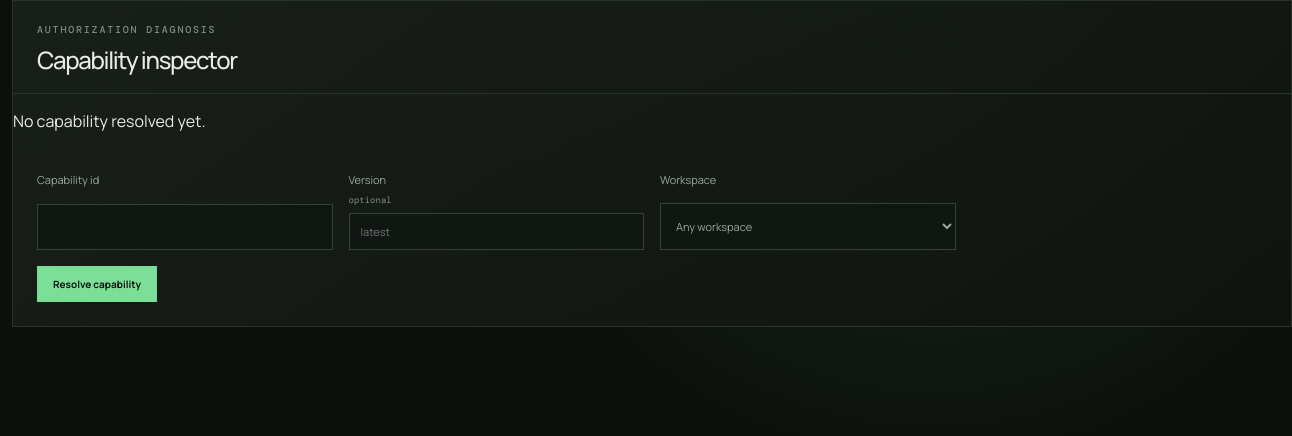
a refused resolution renders the API's own message rather than a blank panel
Type "inspector.oauth" into the field labelled "Capability id" at (185, 227), box x1=37 y1=204 x2=332 y2=250
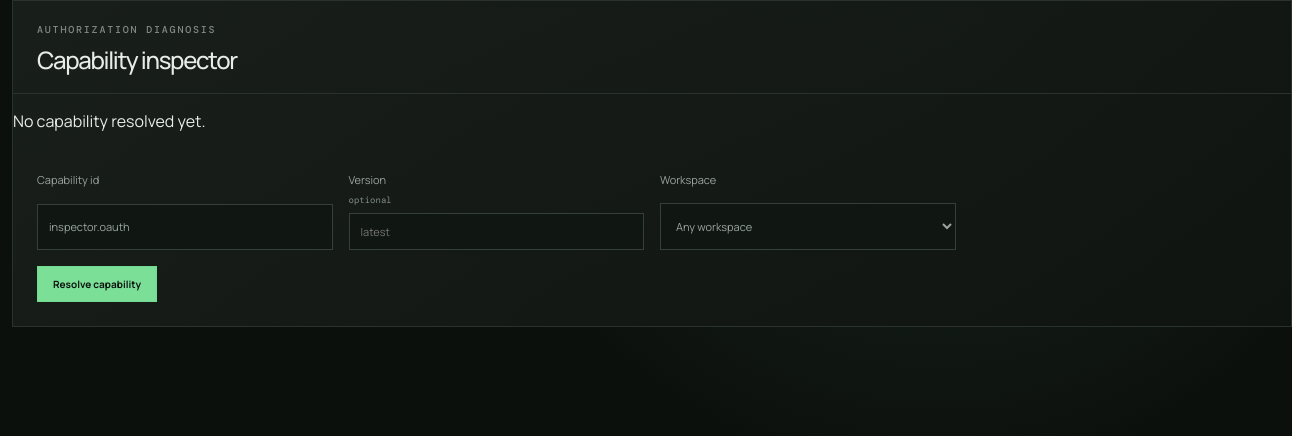
Submit the form named "Resolve a capability", box x1=37 y1=172 x2=956 y2=302
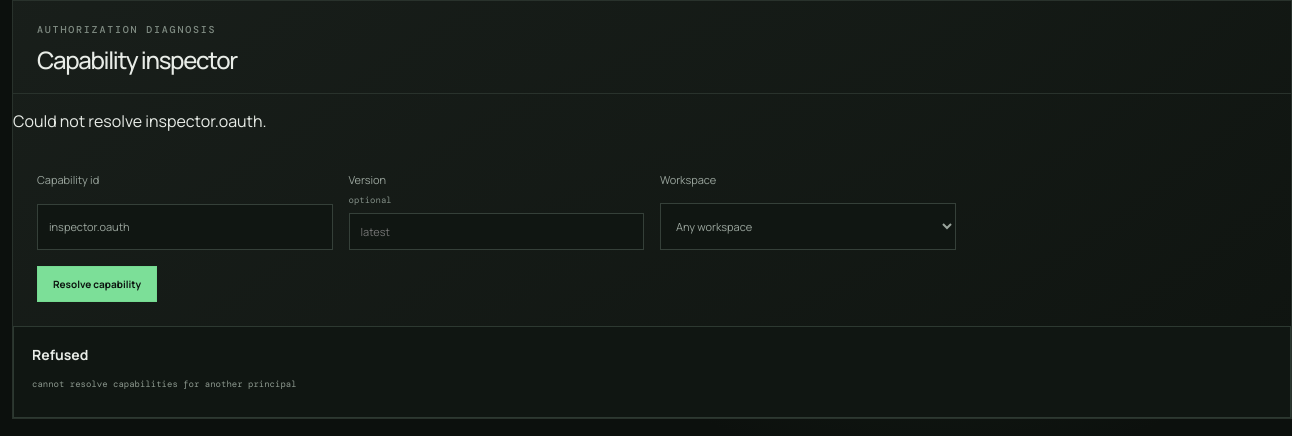
Expected: the text named "Failure reason" reads "cannot resolve capabilities for another principal", x1=32 y1=378 x2=297 y2=390
